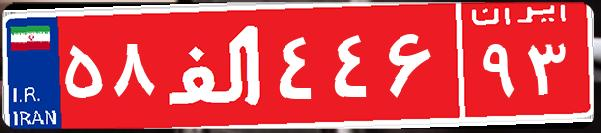3: (525, 38, 570, 115)
4: (273, 28, 330, 110), (330, 28, 385, 110)
5: (57, 26, 110, 107)
6: (385, 28, 445, 110)
8: (110, 28, 158, 105)
9: (475, 38, 525, 113)
الف: (158, 15, 273, 115)
